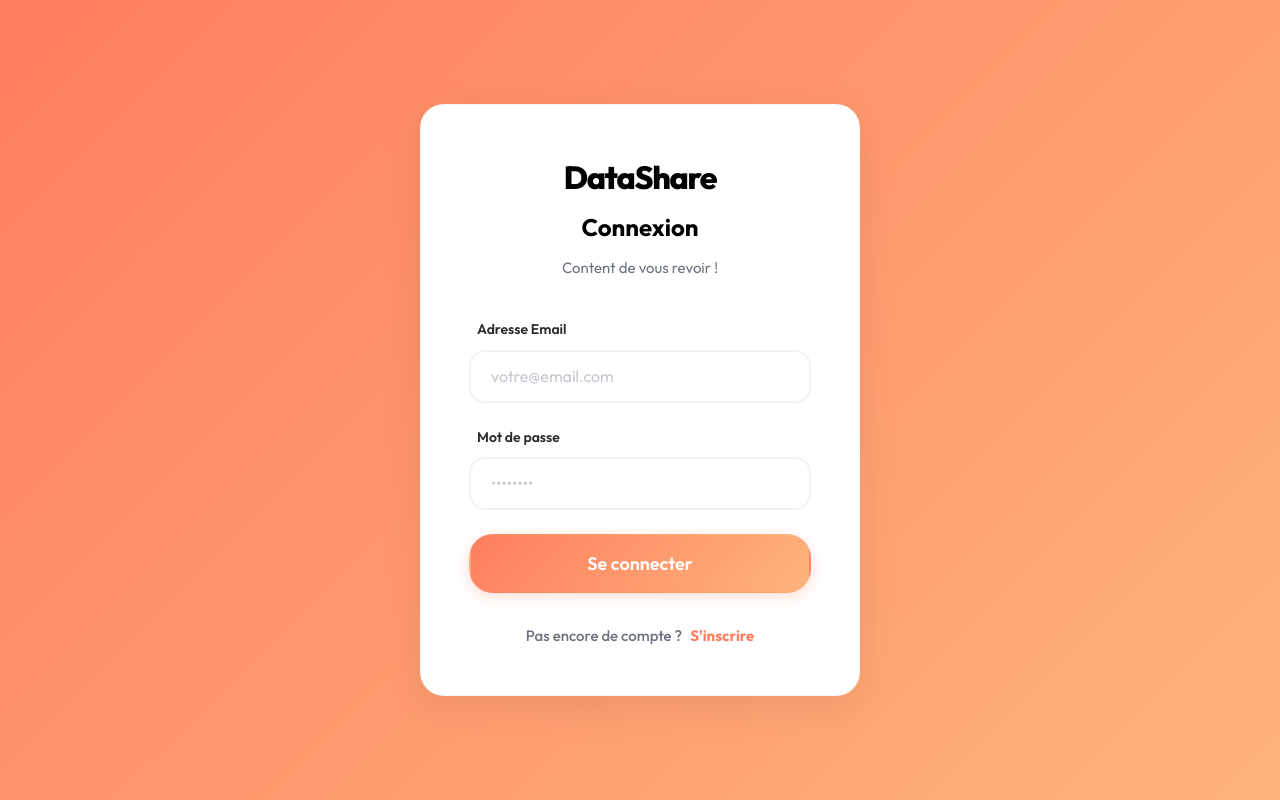
Test: Page de connexion › affiche un message d'erreur si le serveur rejette la connexion
In the field with placeholder "votre@email.com": point(640, 376) top-left (469, 350), bottom-right (811, 402), type "test@example.com"
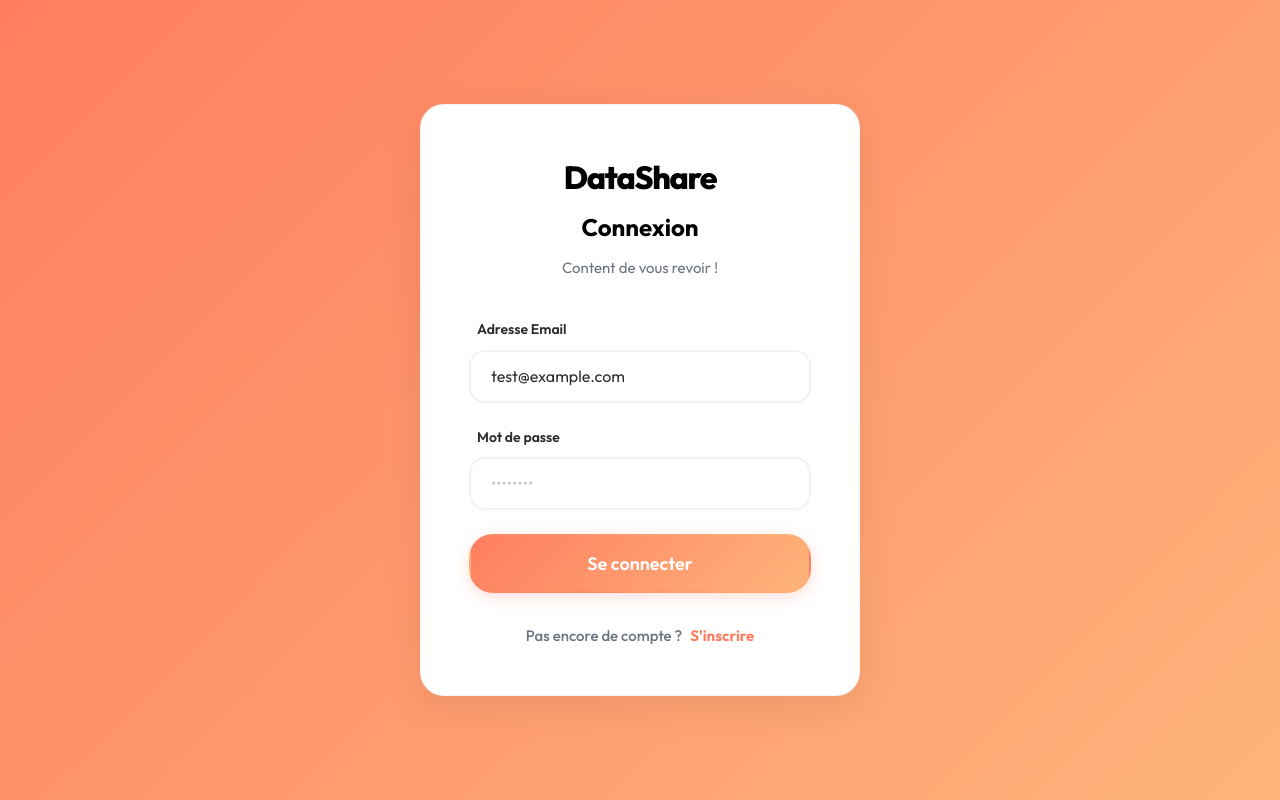
In the password field with placeholder "••••••••": point(640, 484) top-left (469, 457), bottom-right (811, 510), type "mauvais_mdp"
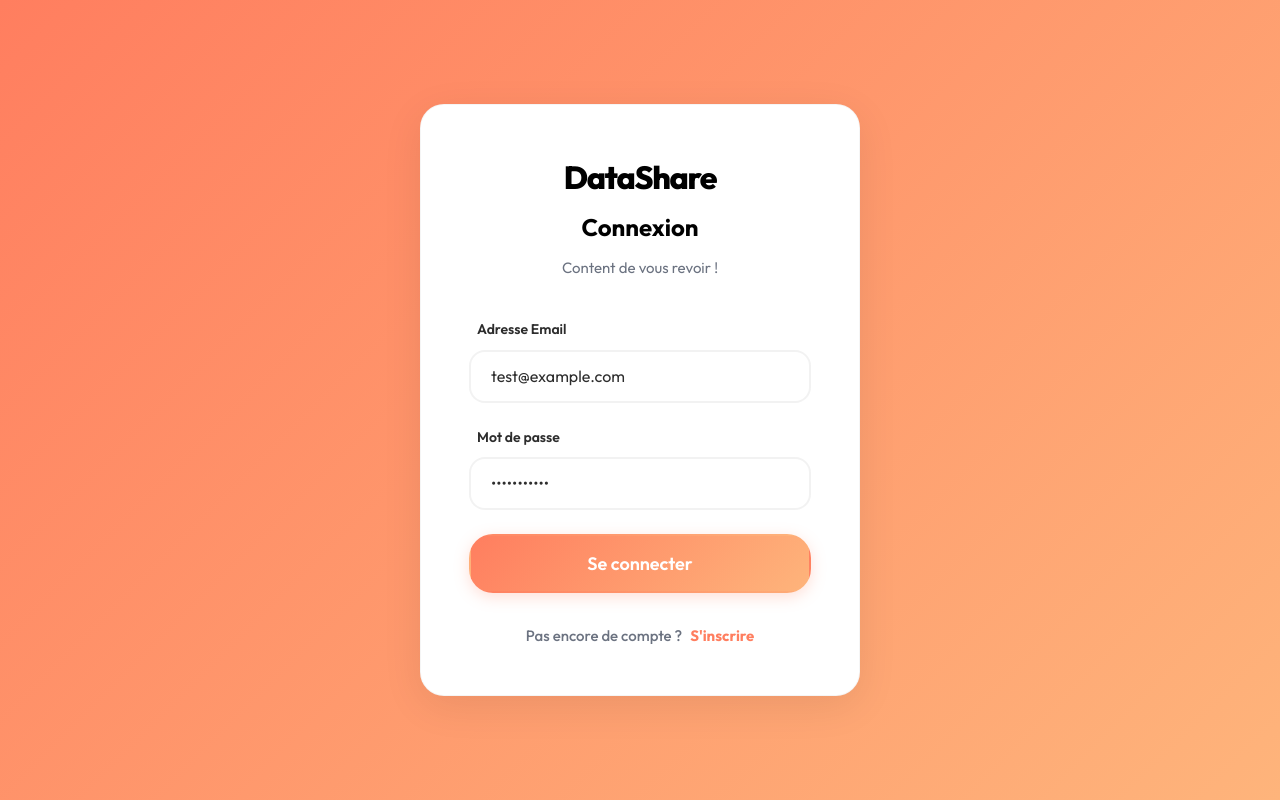
Click the button "Se connecter": point(640, 563) top-left (469, 534), bottom-right (811, 593)
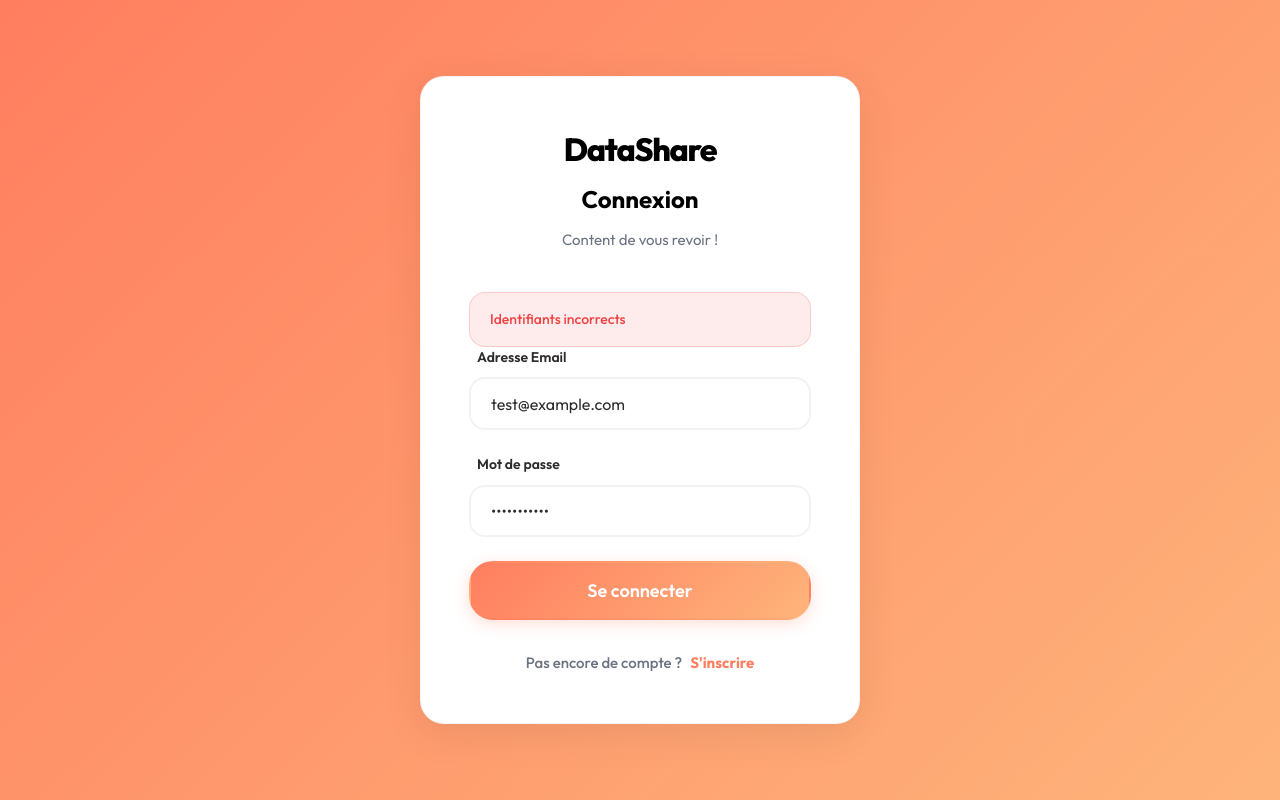
Now the text "Identifiants incorrects" is shown, box top-left (469, 292), bottom-right (811, 347)
